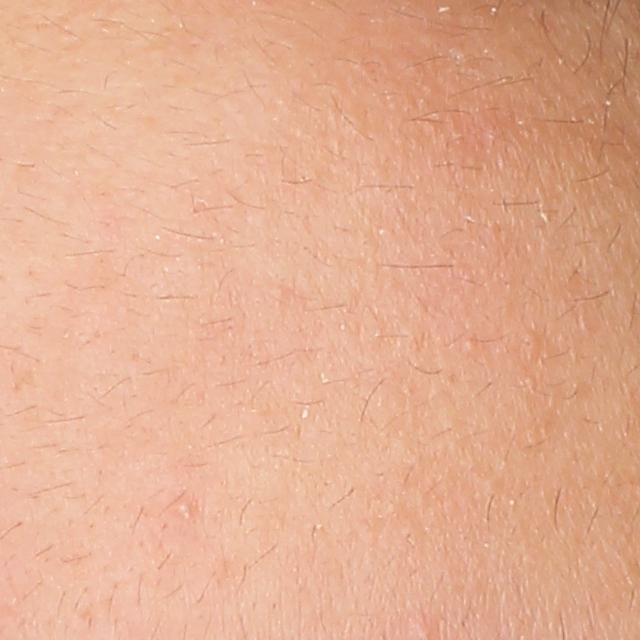comedo: (518, 330, 541, 364), (168, 495, 198, 520), (459, 329, 482, 356)
